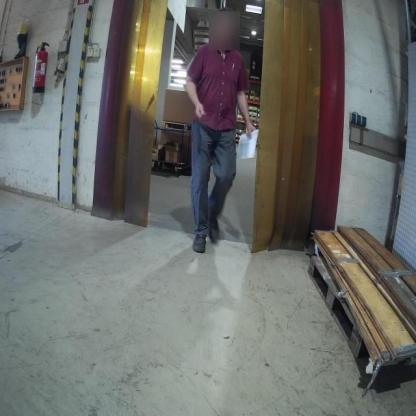pallet: (308, 252, 364, 360), (161, 120, 192, 133), (248, 109, 257, 113), (249, 114, 257, 118), (249, 99, 259, 102), (250, 94, 259, 97), (236, 132, 243, 135)
